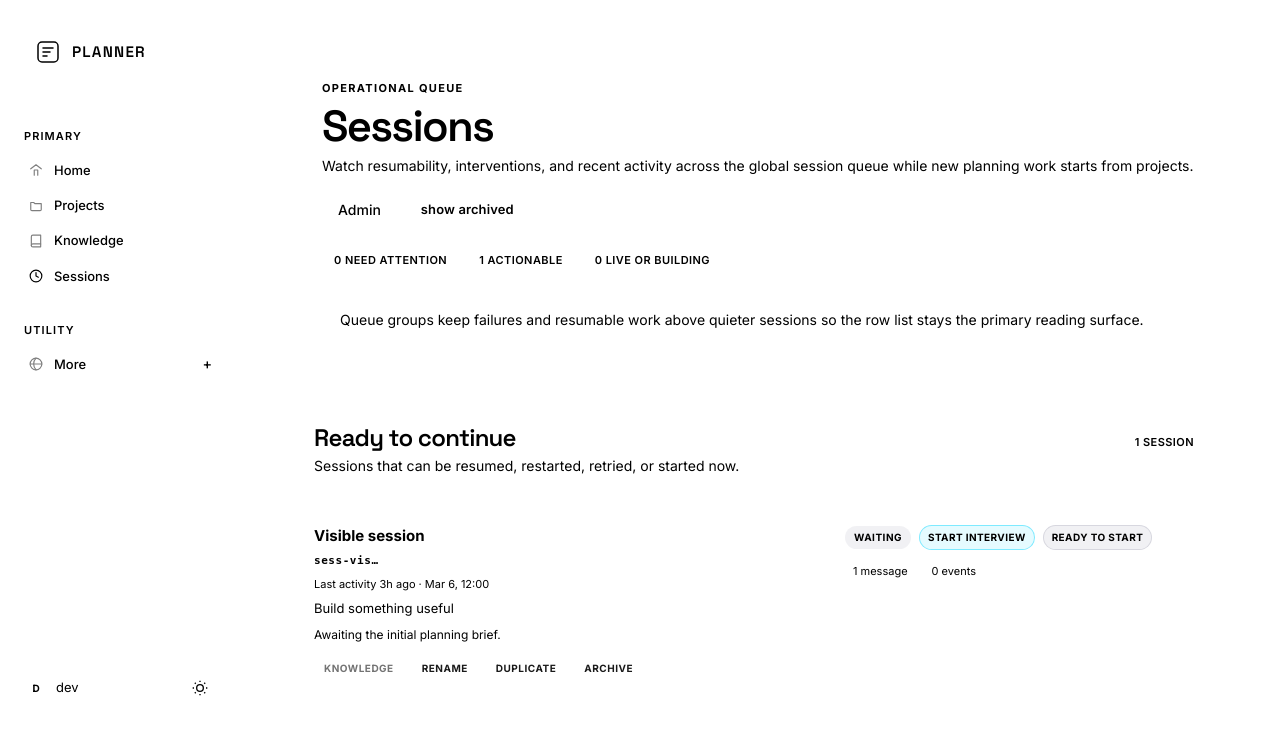
Scenario: Dashboard workflow visibility › hides archived sessions by default and loads them when toggled
Expected: the text "Archived session" is not shown
Click the button "show archived" at (467, 210), box [405,190,530,230]
(page scrolled)
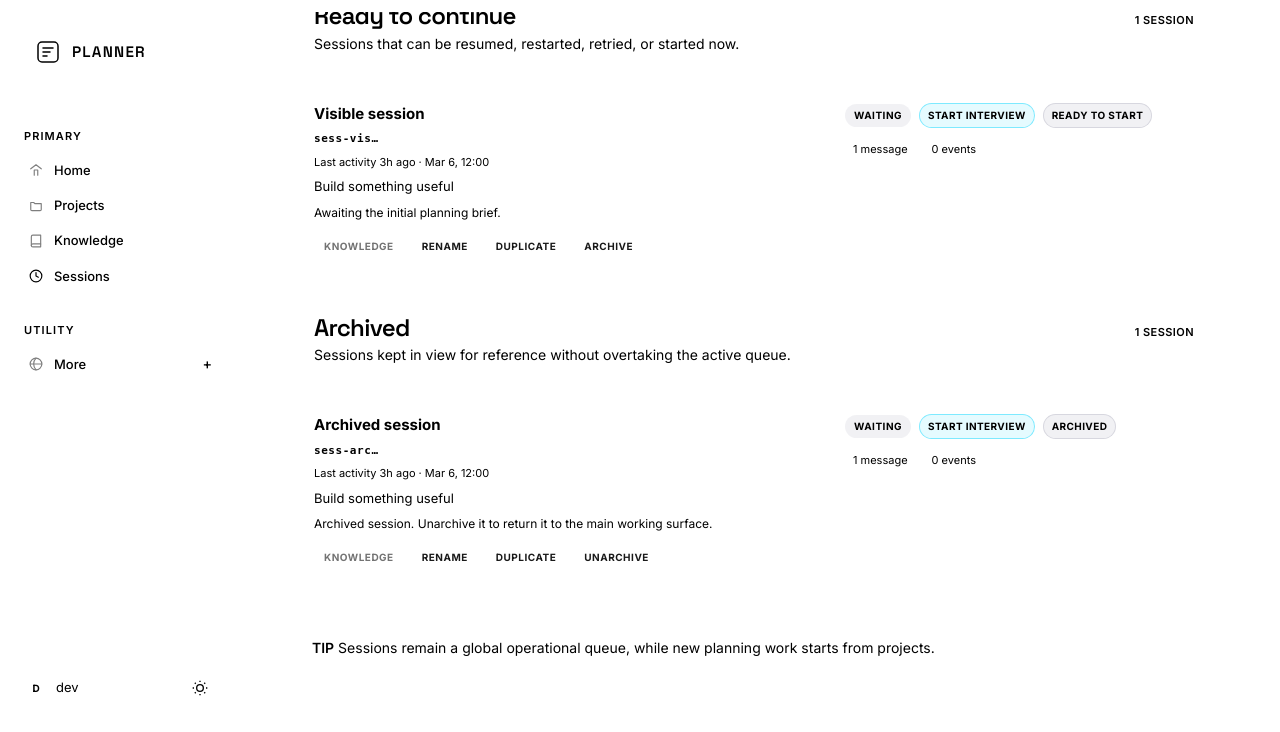
Now the text "Archived session" is shown, box [314,415,441,434]
